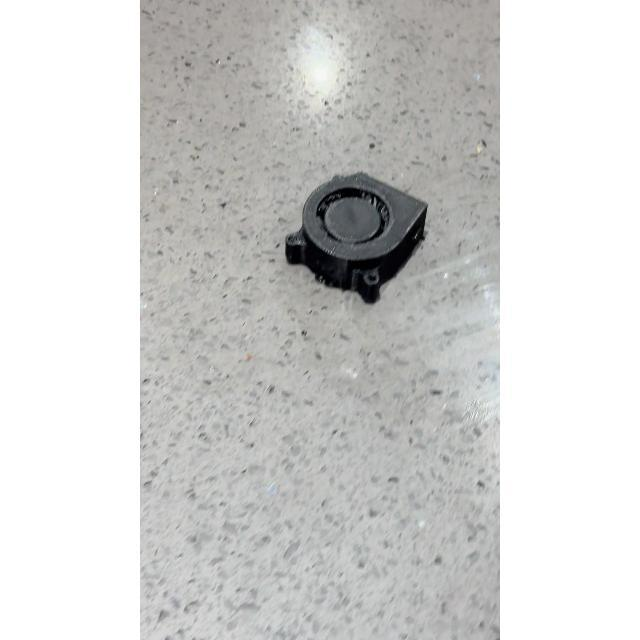Pieza3: (275, 164, 437, 320)
